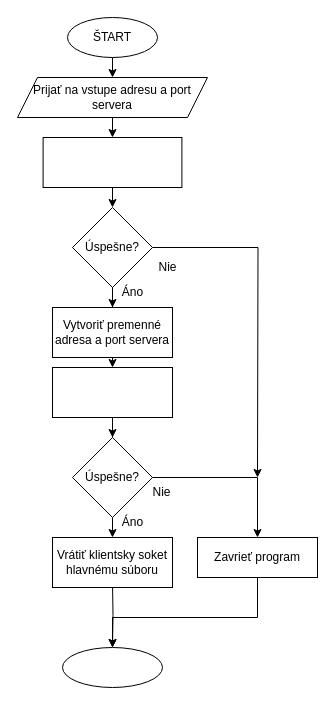
Some shapes in this 335 by 705 pixel diagram are drawn without their labels. Here are the shapes that lost their labels. From the top down, the centre of each, then its label:
point (112, 162): Inicializovať Winsock a vytvoriť klientsky soket
point (112, 392): Pripojiť klientsky soket ku serveru
point (112, 667): KONIEC
